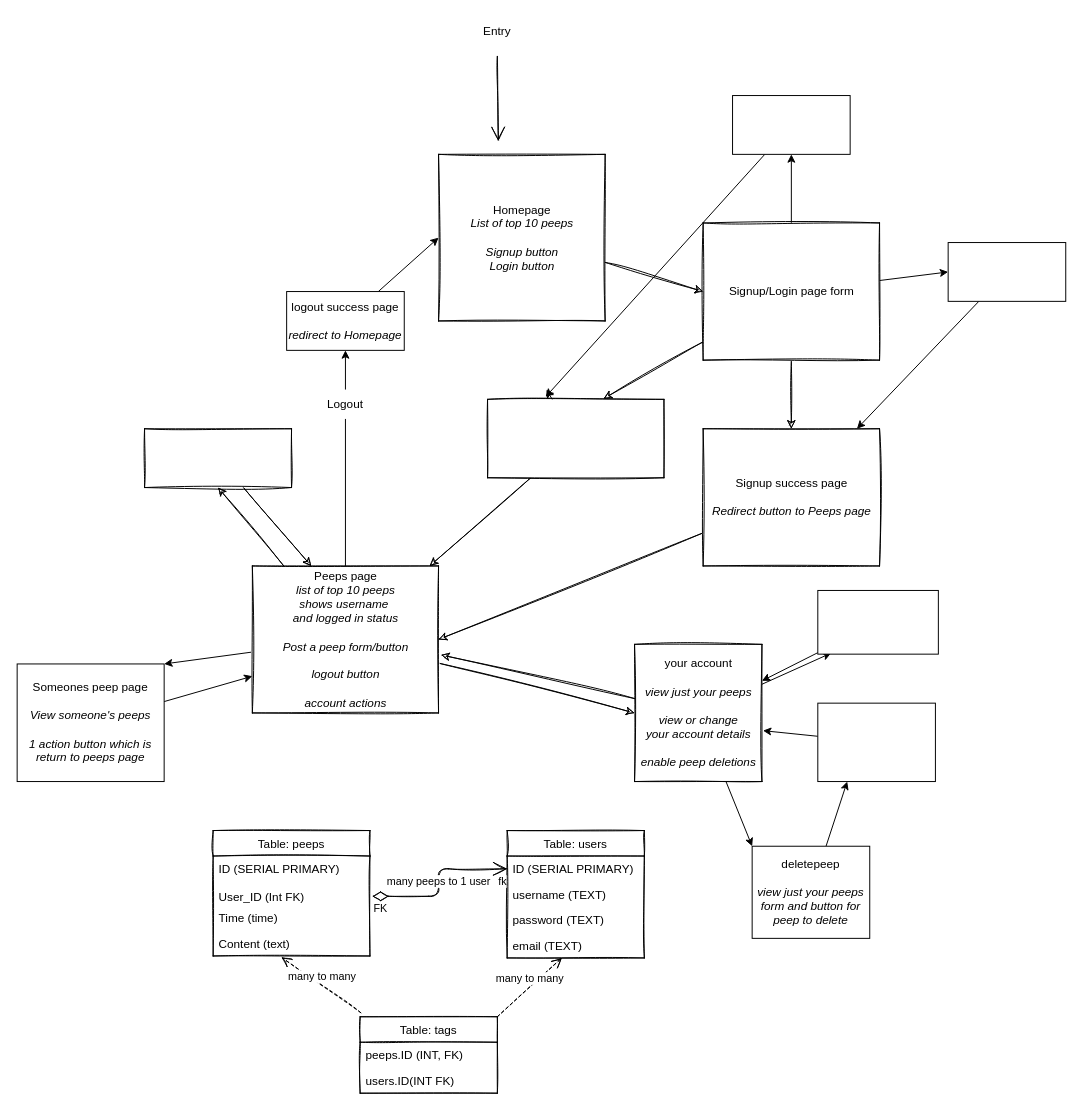
The diagram is 1083 pixels wide and 1112 high, and some of its shapes have lost their labels. Here are the shapes that lost their labels. From the top down, the centre of each, then its label:
(791,124): login fail
(1006,271): signup fail
(218,458): Peep post success page Redirect to Peeps page
(575,438): Login success page Redirect button to Peeps page
(877,621): accountupdated success message and account page redirect
(876,742): peepdeleted success message and account page redirect
